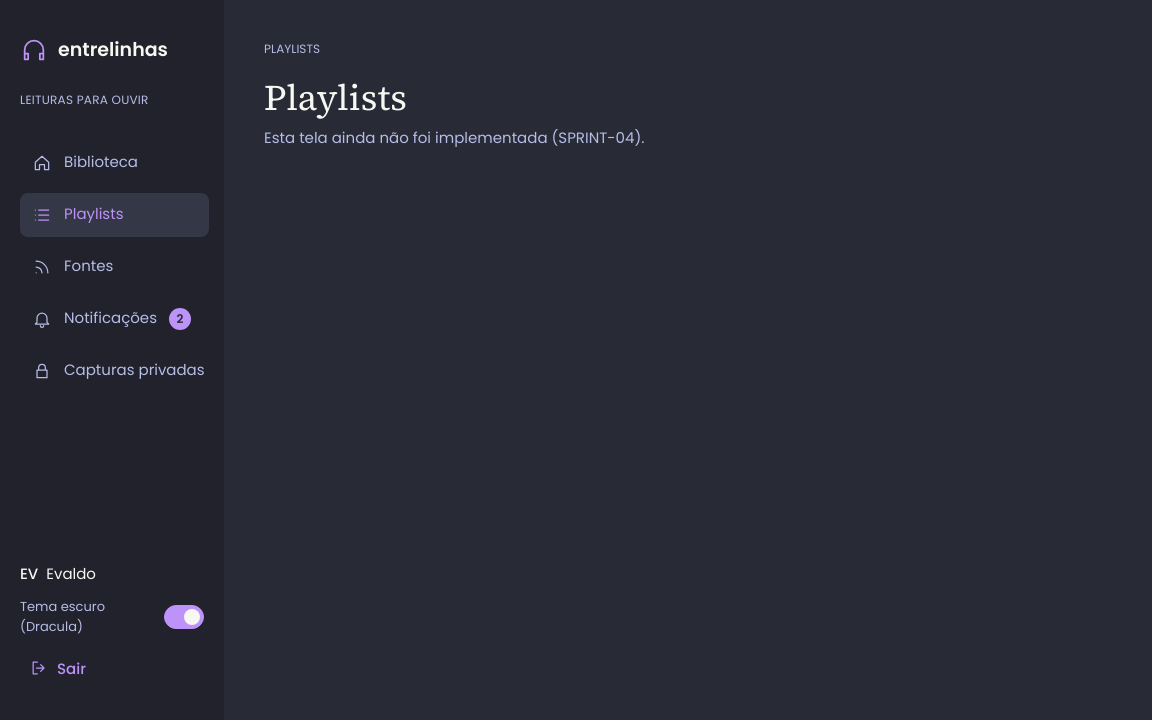
a theme change that cannot be saved keeps the theme and says so
Click the switch named "Tema escuro (Dracula)".
click(184, 616)  # box [164,604,204,628]
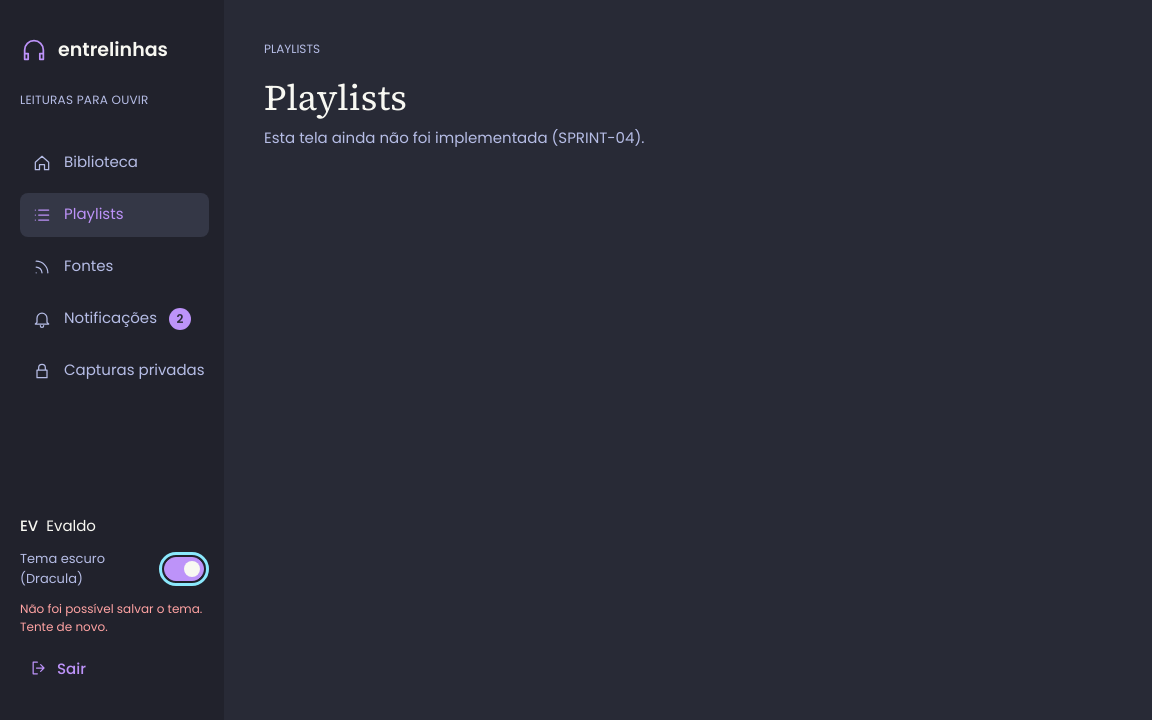
expect the message shows "Não foi possível salvar o tema": met, box [20,600,202,635]
Click the switch named "Tema escuro (Dracula)".
click(184, 568)  # box [164,556,204,580]
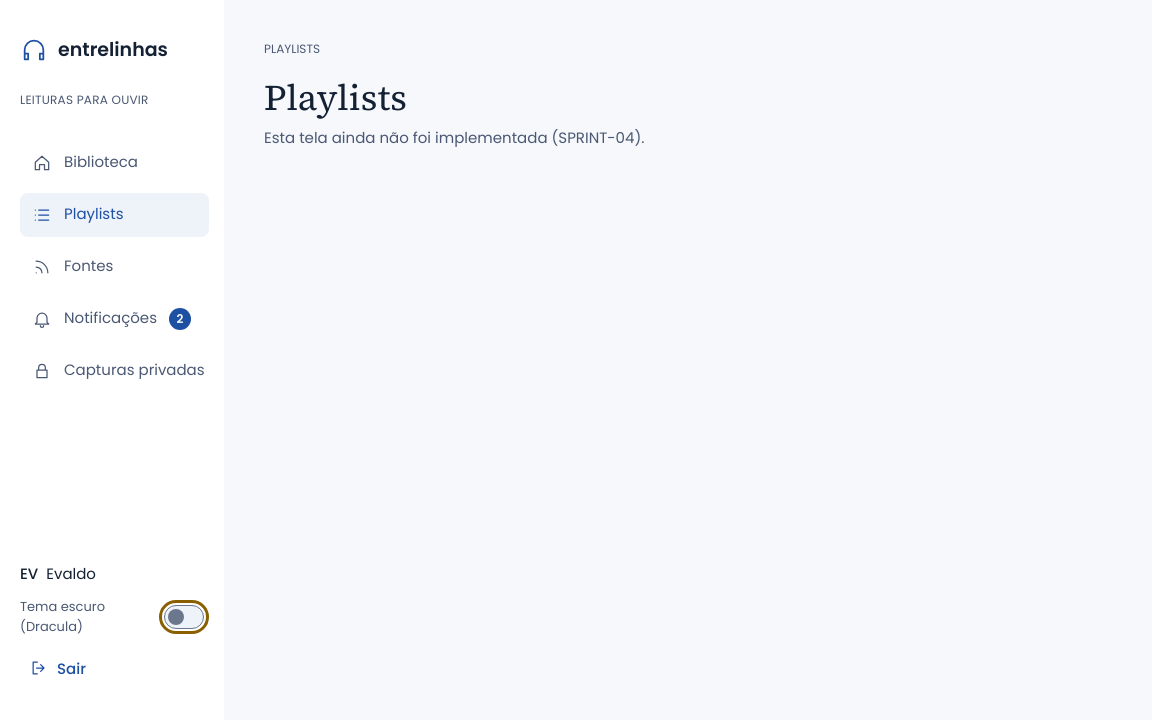
expect the message "Não foi possível salvar o tema. Tente de novo." is gone: met
